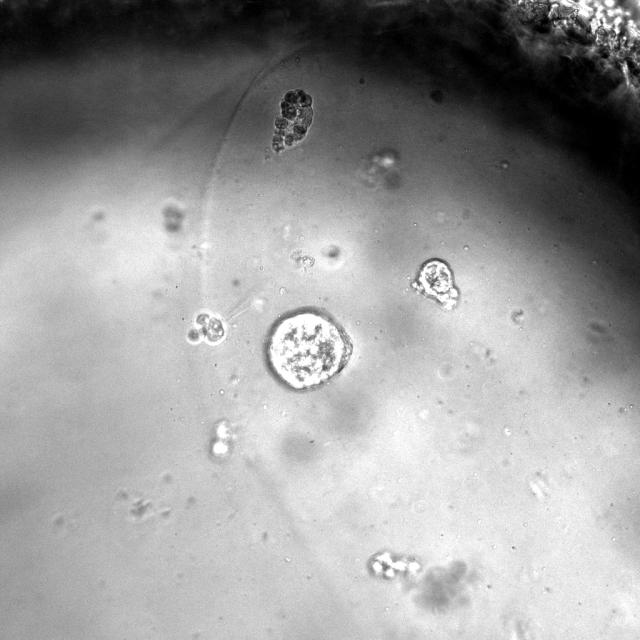organoid: (269, 312, 352, 389), (271, 88, 312, 153), (411, 258, 459, 310), (368, 550, 421, 579), (189, 309, 228, 346), (208, 419, 234, 460)
